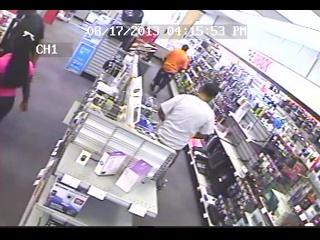Normal: (0, 10, 45, 122), (156, 83, 220, 152), (144, 44, 192, 98)
